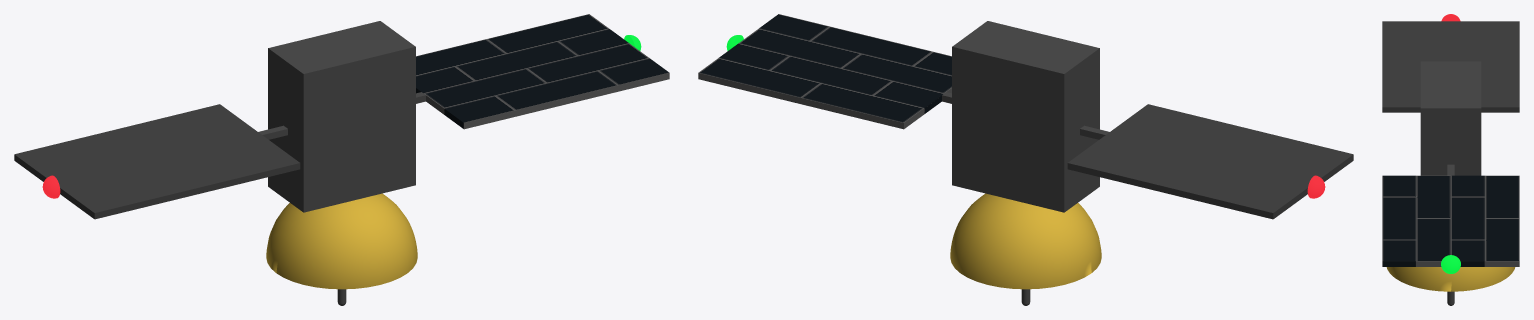
The model's file is satellite.glb.
The picture shows the model from 3 angles, left to right: view 1: azimuth 30°, elevation 25°; view 2: azimuth 150°, elevation 25°; view 3: azimuth 270°, elevation 25°; orthographic projection. The views are drawn at different scales.
Visible parts, largest first — view 1: Satelite-Body, Panel-Left, Panel-Right, Dish; view 2: Satelite-Body, Panel-Left, Panel-Right, Dish; view 3: Panel-Right, Panel-Left, Satelite-Body, Dish, LED-Right, LED-Left, Antenna.
Boxes of the visible parts, box(x1,y1,x2,y2) form: Satelite-Body: box(258, 21, 425, 212); Panel-Left: box(14, 104, 300, 219); Panel-Right: box(416, 14, 669, 129); Dish: box(266, 193, 417, 289); Satelite-Body: box(942, 21, 1109, 212); Panel-Left: box(1067, 104, 1353, 219); Panel-Right: box(698, 14, 951, 129); Dish: box(950, 193, 1101, 289); Panel-Right: box(1382, 175, 1519, 266); Panel-Left: box(1382, 21, 1519, 112); Satelite-Body: box(1420, 61, 1481, 175); Dish: box(1386, 267, 1515, 291); LED-Right: box(1441, 255, 1460, 273); LED-Left: box(1441, 14, 1460, 21); Antenna: box(1447, 291, 1454, 305).
Size of the model in its own units: 0.463 by 0.1918 by 0.1083.
5 materials, 1 textured.
